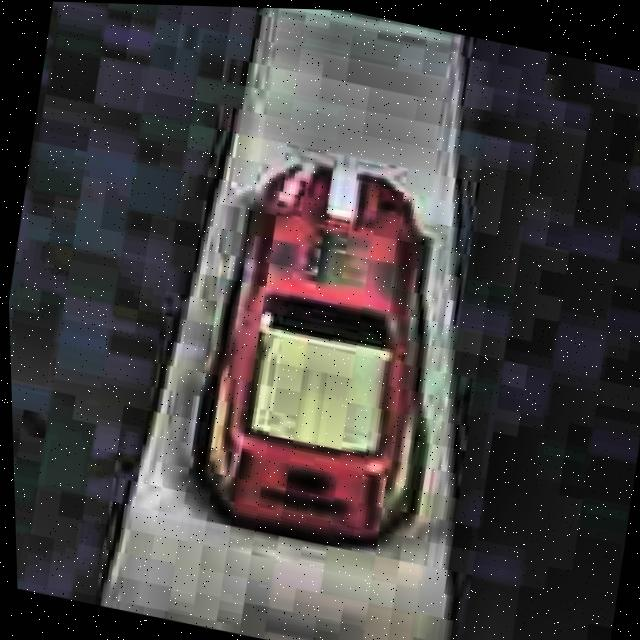car: (167, 137, 480, 574)
